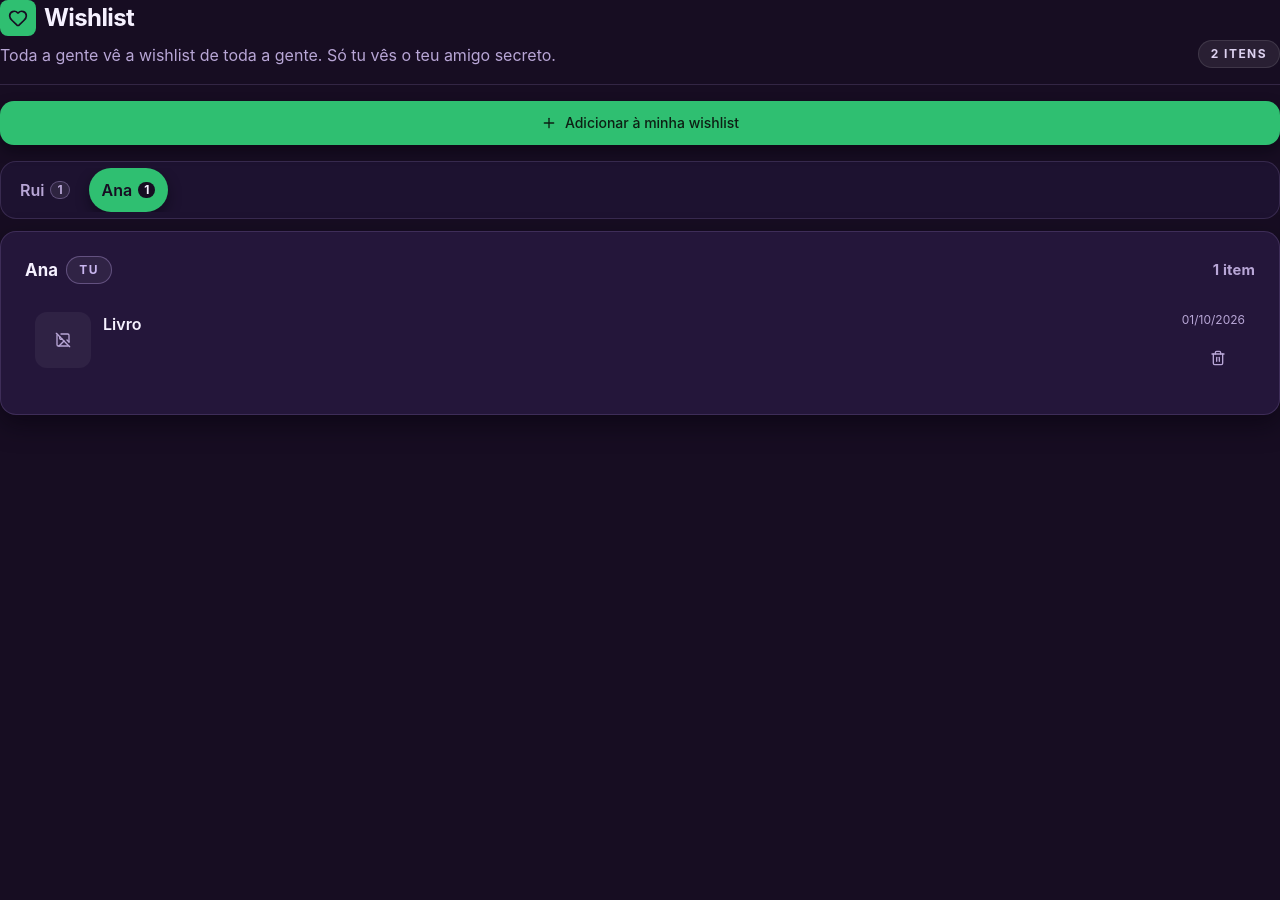
Test: CanhoesWishlistModule › adds an item and refreshes the list
This screenshot has width=1280, height=900.
Click the button "Adicionar à minha wishlist": (640, 123) [0,101,1279,145]
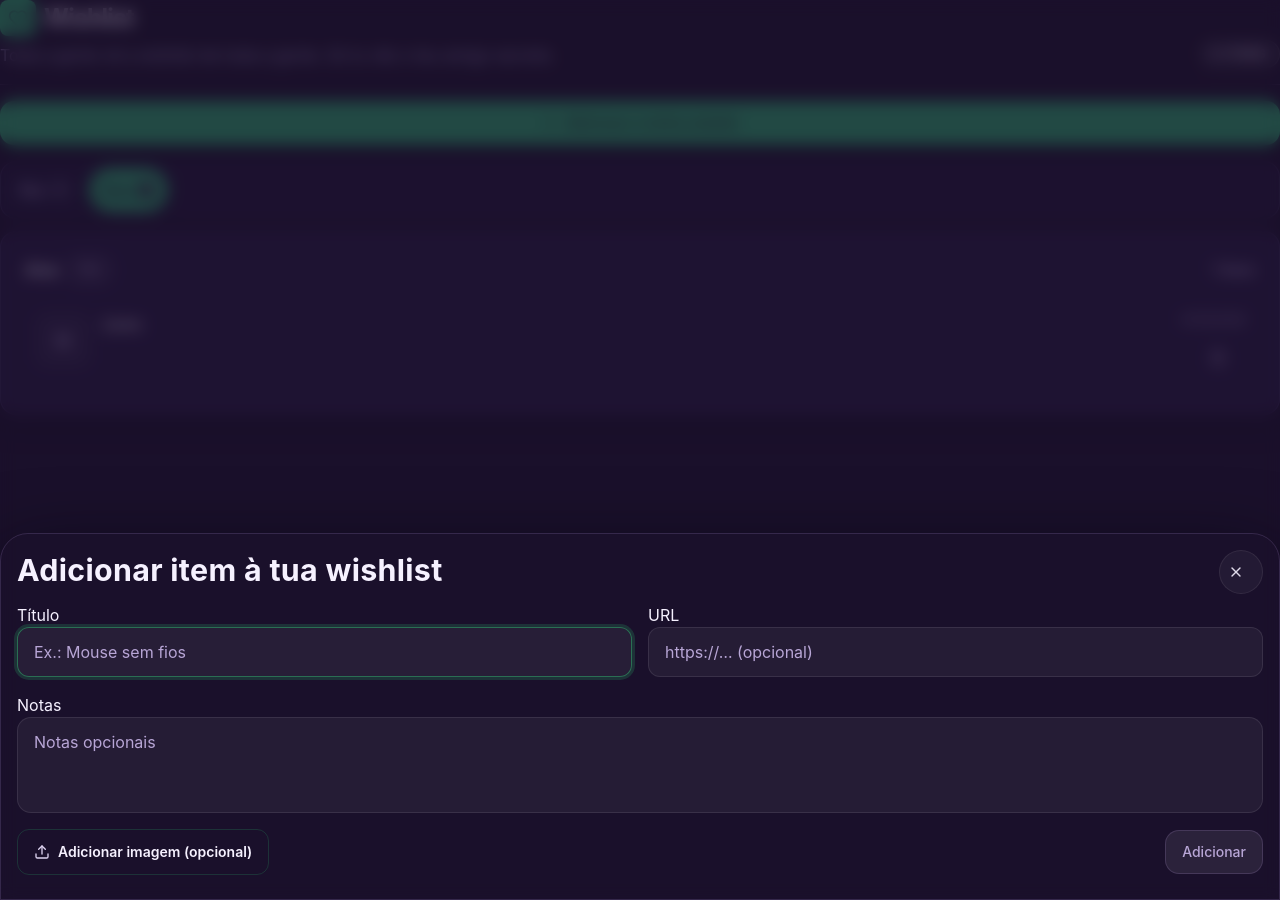
In the field labelled "Título": (324, 652) [17,627,632,677], type " Caneca "
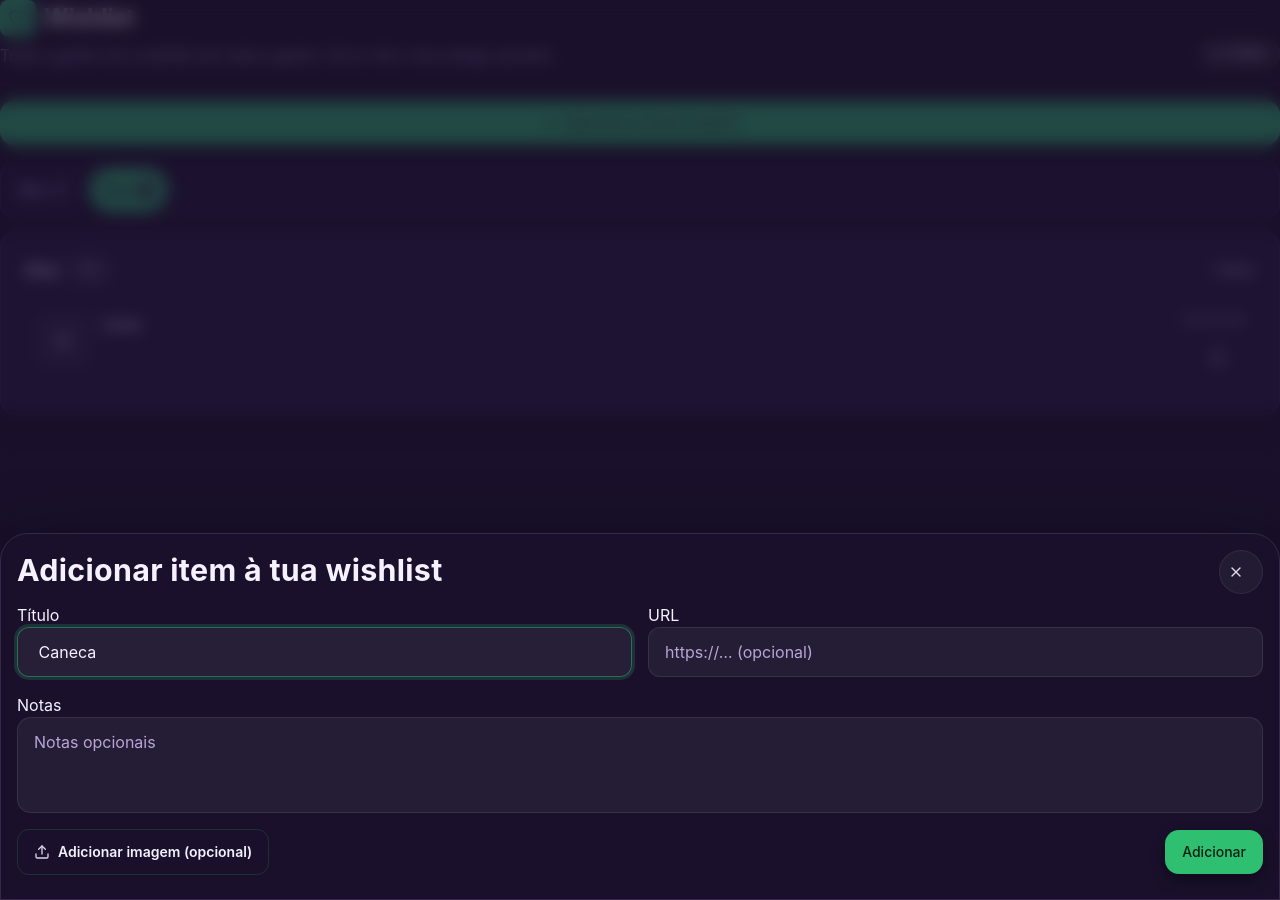
Click the button with aria-label "Adicionar item": (1214, 852) [1165,830,1263,874]
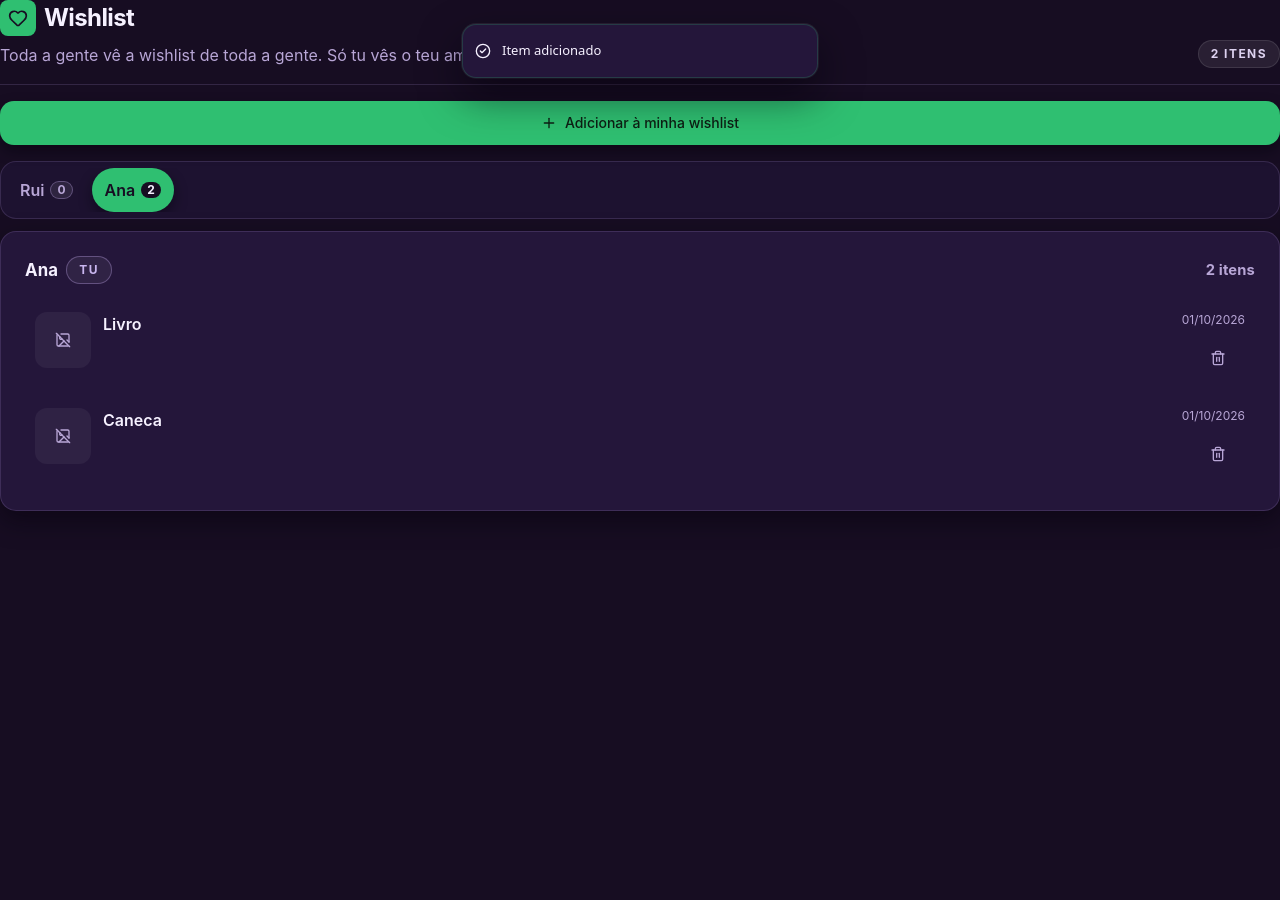
Result: the text "Item adicionado" is shown at [502,41,601,60]
Result: the text "Caneca" is shown at [103,410,162,430]
Result: the label labelled "Título" is gone
